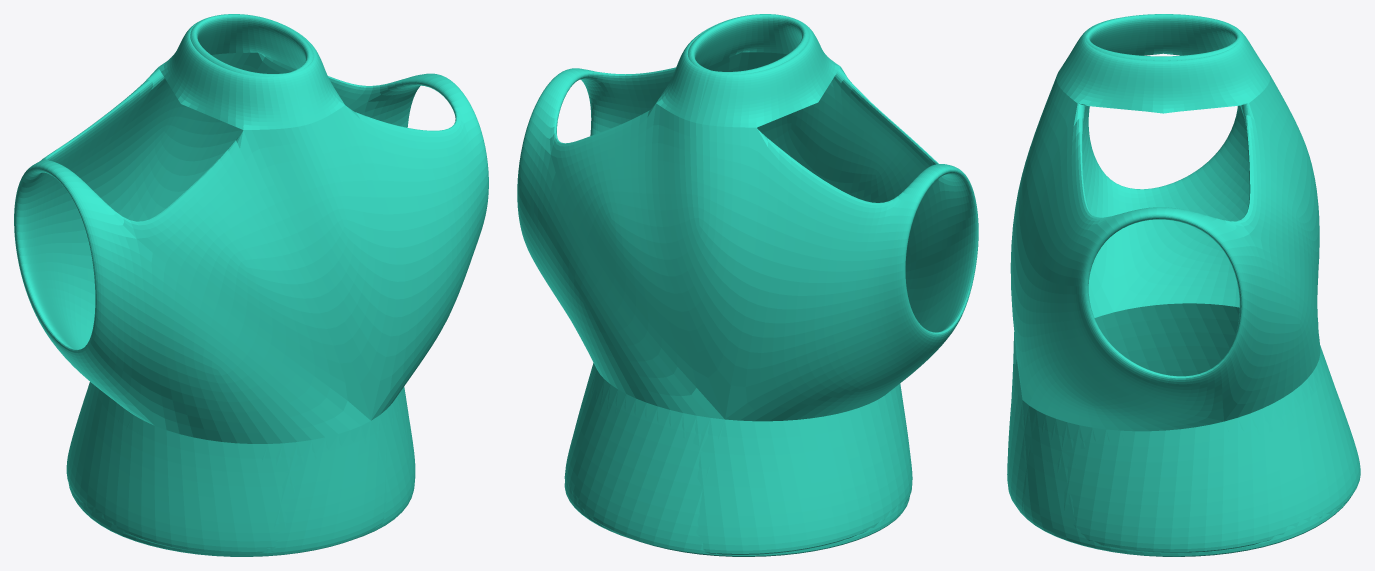
File: clothes_model_3.gltf
The picture shows the model from 3 angles, left to right: view 1: azimuth 30°, elevation 25°; view 2: azimuth 150°, elevation 25°; view 3: azimuth 270°, elevation 25°; orthographic projection.
Visible parts, largest first — view 1: clothes; view 2: clothes; view 3: clothes.
Part boxes in pixels (left/top/right/bottom): clothes: left=14, top=14, right=488, bottom=556; clothes: left=517, top=14, right=978, bottom=556; clothes: left=1007, top=14, right=1360, bottom=556.
Bounding box in the file's own units: 0.7451 × 0.8054 × 0.5718.
